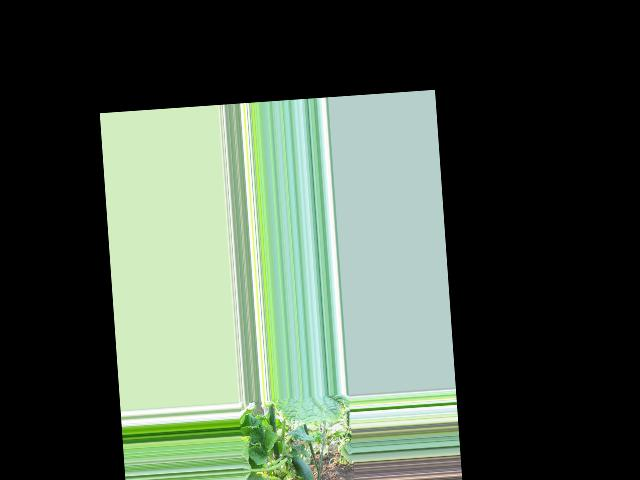cucumber: (272, 454, 318, 480)
